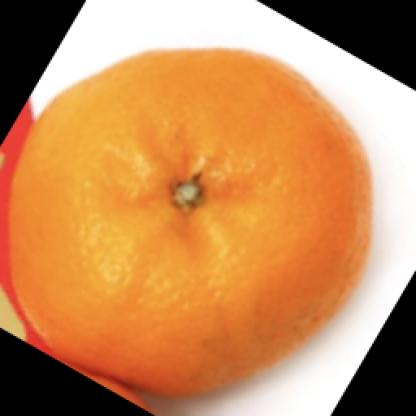fresh: (7, 48, 374, 399)
